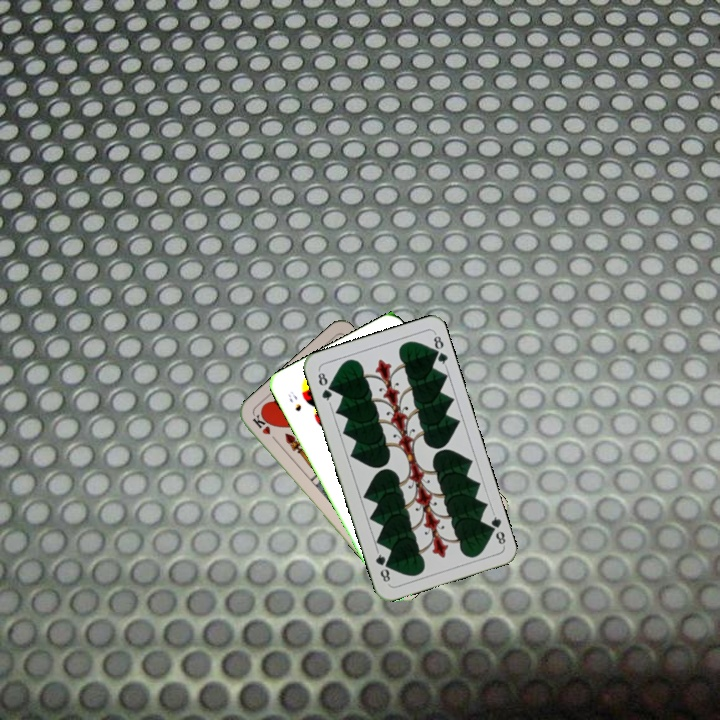G8: (484, 509, 508, 548), (314, 366, 335, 406)
HK: (248, 410, 281, 445)
S8: (283, 387, 304, 414)
